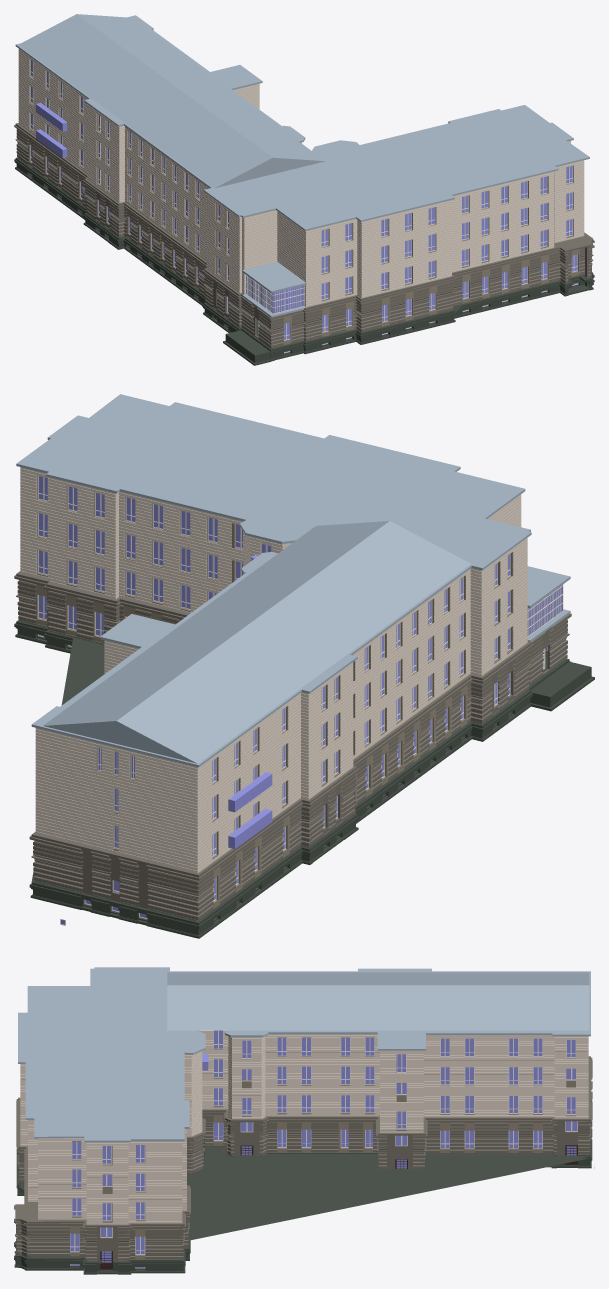
3 renders of one model, top to bottom at view 1: azimuth 30°, elevation 25°; view 2: azimuth 150°, elevation 25°; view 3: azimuth 270°, elevation 25°, orthographic. The views are drawn at different scales.
Visible parts, largest first — view 1: FourthFloorRoof, FourthFloorRoof.002, FirstFloor, GroundFloor, SecondFloorRoof, BasementFloor, Stairs, 0.5PanelDarkWINDOW_039, 0.5PanelDarkWINDOW_042, 0.5PanelDarkWINDOW_040, 0.5PanelDarkWINDOW_041, 0.5PanelDarkWINDOW_047 (+6 smaller); view 2: FourthFloorRoof, FourthFloorRoof.002, GroundFloor, FirstFloor, Stairs, BasementFloor, 0.5PanelDarkWINDOW_035, SecondFloorRoof, PanelLightWINDOW_018, PanelLightWINDOW_038, PanelLightWINDOW_019, PanelLightWINDOW_067 (+14 smaller); view 3: FourthFloorRoof, FourthFloorRoof.002, GroundFloor, FirstFloor, 0.5PanelDarkWINDOW_037, 3SecondFloorStairsDoorSegment_006, 3SecondFloorStairsDoorSegment_004, 0.5PanelDarkWINDOW_017, 0.5PanelDarkWINDOW_019, 0.5PanelDarkWINDOW_021, 3SecondFloorStairsDoorSegment_002, 0.5PanelDarkWINDOW_016 (+52 smaller).
Boxes of the visible parts, x1,y1,x2,y2 form: FourthFloorRoof: [15, 15, 589, 231]; FourthFloorRoof.002: [18, 14, 325, 188]; FirstFloor: [15, 123, 593, 310]; GroundFloor: [15, 157, 593, 351]; SecondFloorRoof: [242, 261, 306, 292]; BasementFloor: [15, 167, 592, 359]; Stairs: [223, 330, 271, 365]; 0.5PanelDarkWINDOW_039: [515, 255, 536, 303]; 0.5PanelDarkWINDOW_042: [456, 269, 477, 317]; 0.5PanelDarkWINDOW_040: [495, 260, 516, 308]; 0.5PanelDarkWINDOW_041: [475, 264, 496, 312]; 0.5PanelDarkWINDOW_047: [316, 303, 336, 351]; FourthFloorRoof: [16, 394, 531, 767]; FourthFloorRoof.002: [43, 521, 470, 763]; GroundFloor: [16, 620, 569, 925]; FirstFloor: [16, 571, 531, 877]; Stairs: [530, 661, 594, 711]; BasementFloor: [16, 634, 530, 936]; 0.5PanelDarkWINDOW_035: [56, 589, 85, 653]; SecondFloorRoof: [527, 566, 570, 608]; PanelLightWINDOW_018: [171, 539, 198, 582]; PanelLightWINDOW_038: [198, 546, 225, 588]; PanelLightWINDOW_019: [143, 532, 170, 576]; PanelLightWINDOW_067: [171, 504, 198, 545]; FourthFloorRoof: [18, 967, 590, 1142]; FourthFloorRoof.002: [167, 972, 589, 1030]; GroundFloor: [15, 1137, 590, 1264]; FirstFloor: [15, 1056, 590, 1227]; 0.5PanelDarkWINDOW_037: [62, 1223, 85, 1270]; 3SecondFloorStairsDoorSegment_006: [387, 1135, 412, 1169]; 3SecondFloorStairsDoorSegment_004: [234, 1122, 259, 1155]; 0.5PanelDarkWINDOW_017: [501, 1120, 525, 1154]; 0.5PanelDarkWINDOW_019: [433, 1120, 457, 1154]; 0.5PanelDarkWINDOW_021: [331, 1119, 355, 1153]; 3SecondFloorStairsDoorSegment_002: [97, 1227, 117, 1271]; 0.5PanelDarkWINDOW_016: [525, 1120, 550, 1167].
Bounding box in the file's own units: 4404 × 1863 × 5947.
